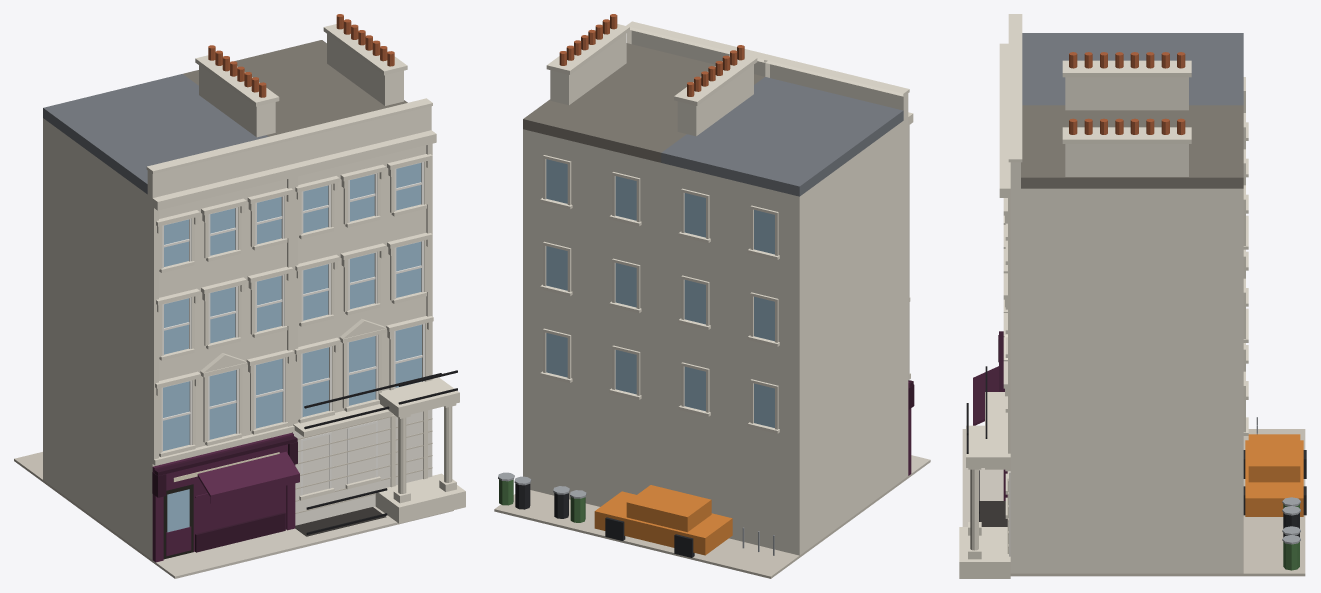
The model's file is Blok_duz_4k_2_Hafif.fbx.
3 renders of one model, left to right at view 1: azimuth 30°, elevation 25°; view 2: azimuth 150°, elevation 25°; view 3: azimuth 270°, elevation 25°, orthographic. The views are drawn at different scales.
Parts seen in each view (by area): view 1: Blok_duz_4k_2_Hafif; view 2: Blok_duz_4k_2_Hafif; view 3: Blok_duz_4k_2_Hafif.
Boxes of the visible parts, <box> form: Blok_duz_4k_2_Hafif: <box>14,14,465,578</box>; Blok_duz_4k_2_Hafif: <box>494,14,930,578</box>; Blok_duz_4k_2_Hafif: <box>959,14,1306,578</box>.
Bounding box in the file's own units: 10.39 × 14.49 × 10.14.
